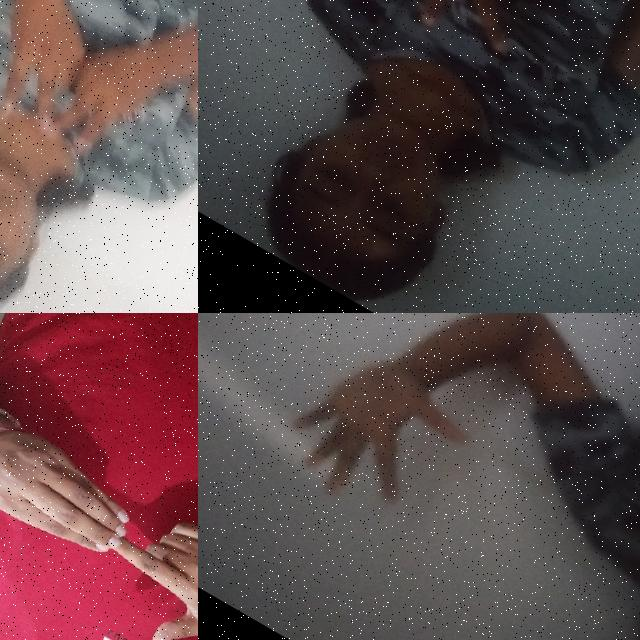Five Fathers: (0, 388, 198, 640)
Moutza: (258, 316, 498, 554)
Reversed Victory: (30, 9, 170, 170), (366, 0, 590, 80), (0, 0, 122, 143)
